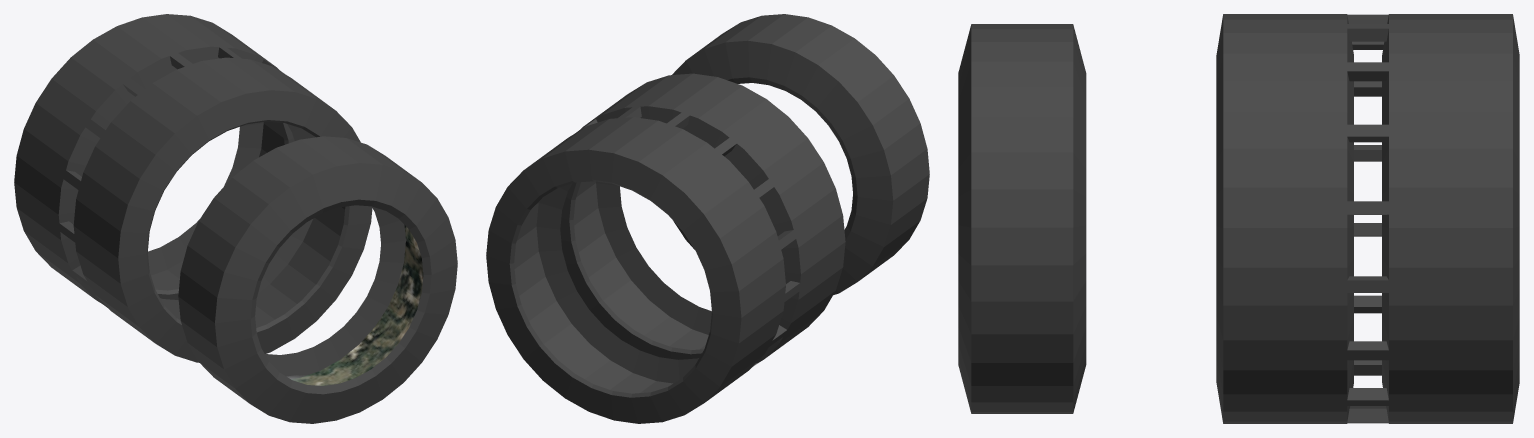
File: Coriolis7.glb
3 renders of one model, left to right at view 1: azimuth 30°, elevation 25°; view 2: azimuth 150°, elevation 25°; view 3: azimuth 270°, elevation 25°, orthographic. The views are drawn at different scales.
Parts seen in each view (by area): view 1: Coriolas, Land-ring; view 2: Coriolas; view 3: Coriolas.
Part boxes in pixels (x1=…): Coriolas: x1=14, y1=14, x2=457, y2=423; Land-ring: x1=288, y1=225, x2=423, y2=385; Coriolas: x1=486, y1=14, x2=929, y2=423; Coriolas: x1=958, y1=14, x2=1519, y2=423.
Size of the model in its own units: 2.4 by 2.4 by 3.28.
3 materials, 2 textured.
